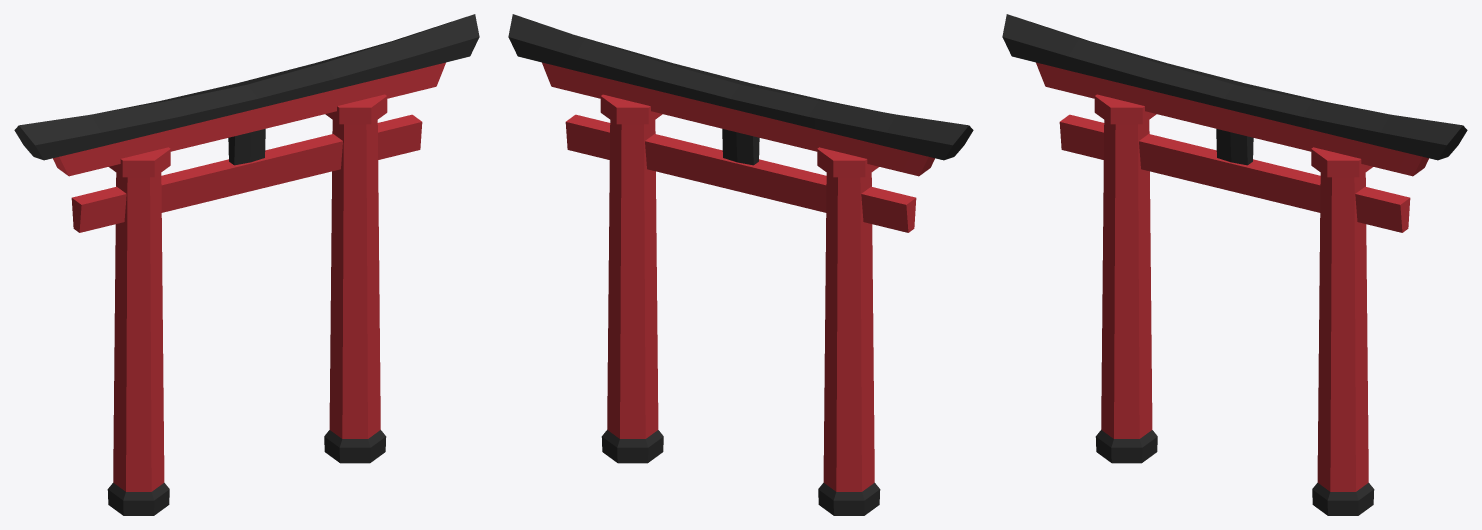
The model's file is gate-red-japan.glb.
3 renders of one model, left to right at view 1: azimuth 30°, elevation 25°; view 2: azimuth 150°, elevation 25°; view 3: azimuth 330°, elevation 25°, orthographic.
Parts seen in each view (by area): view 1: gate-red-japan; view 2: gate-red-japan; view 3: gate-red-japan.
Part boxes in pixels (x1=…): gate-red-japan: x1=14, y1=14, x2=479, y2=515; gate-red-japan: x1=508, y1=14, x2=973, y2=515; gate-red-japan: x1=1002, y1=14, x2=1467, y2=515.
Size of the model in its own units: 6.2 by 5.31 by 0.7533.
1 material, 1 textured.
